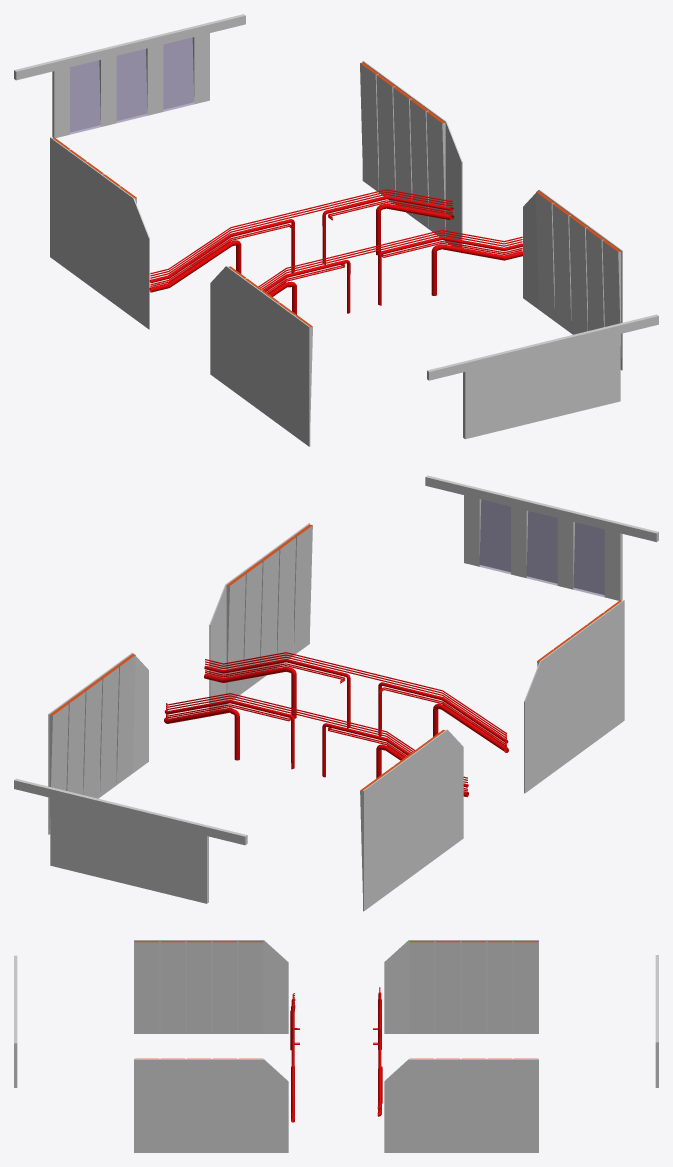
Rendered from Decoration.fbx.
3 views of the same model, one above another, from view 1: azimuth 30°, elevation 25°; view 2: azimuth 150°, elevation 25°; view 3: azimuth 270°, elevation 25° (orthographic). The views are drawn at different scales.
Visible parts, largest first — view 1: Orj.528; view 2: Orj.528; view 3: Orj.528.
Boxes of the visible parts, x1,y1,x2,y2 form: Orj.528: (14,14,658,446); Orj.528: (14,475,658,911); Orj.528: (14,940,658,1152).
Size of the model in its own units: 4067 by 1482 by 9200.
